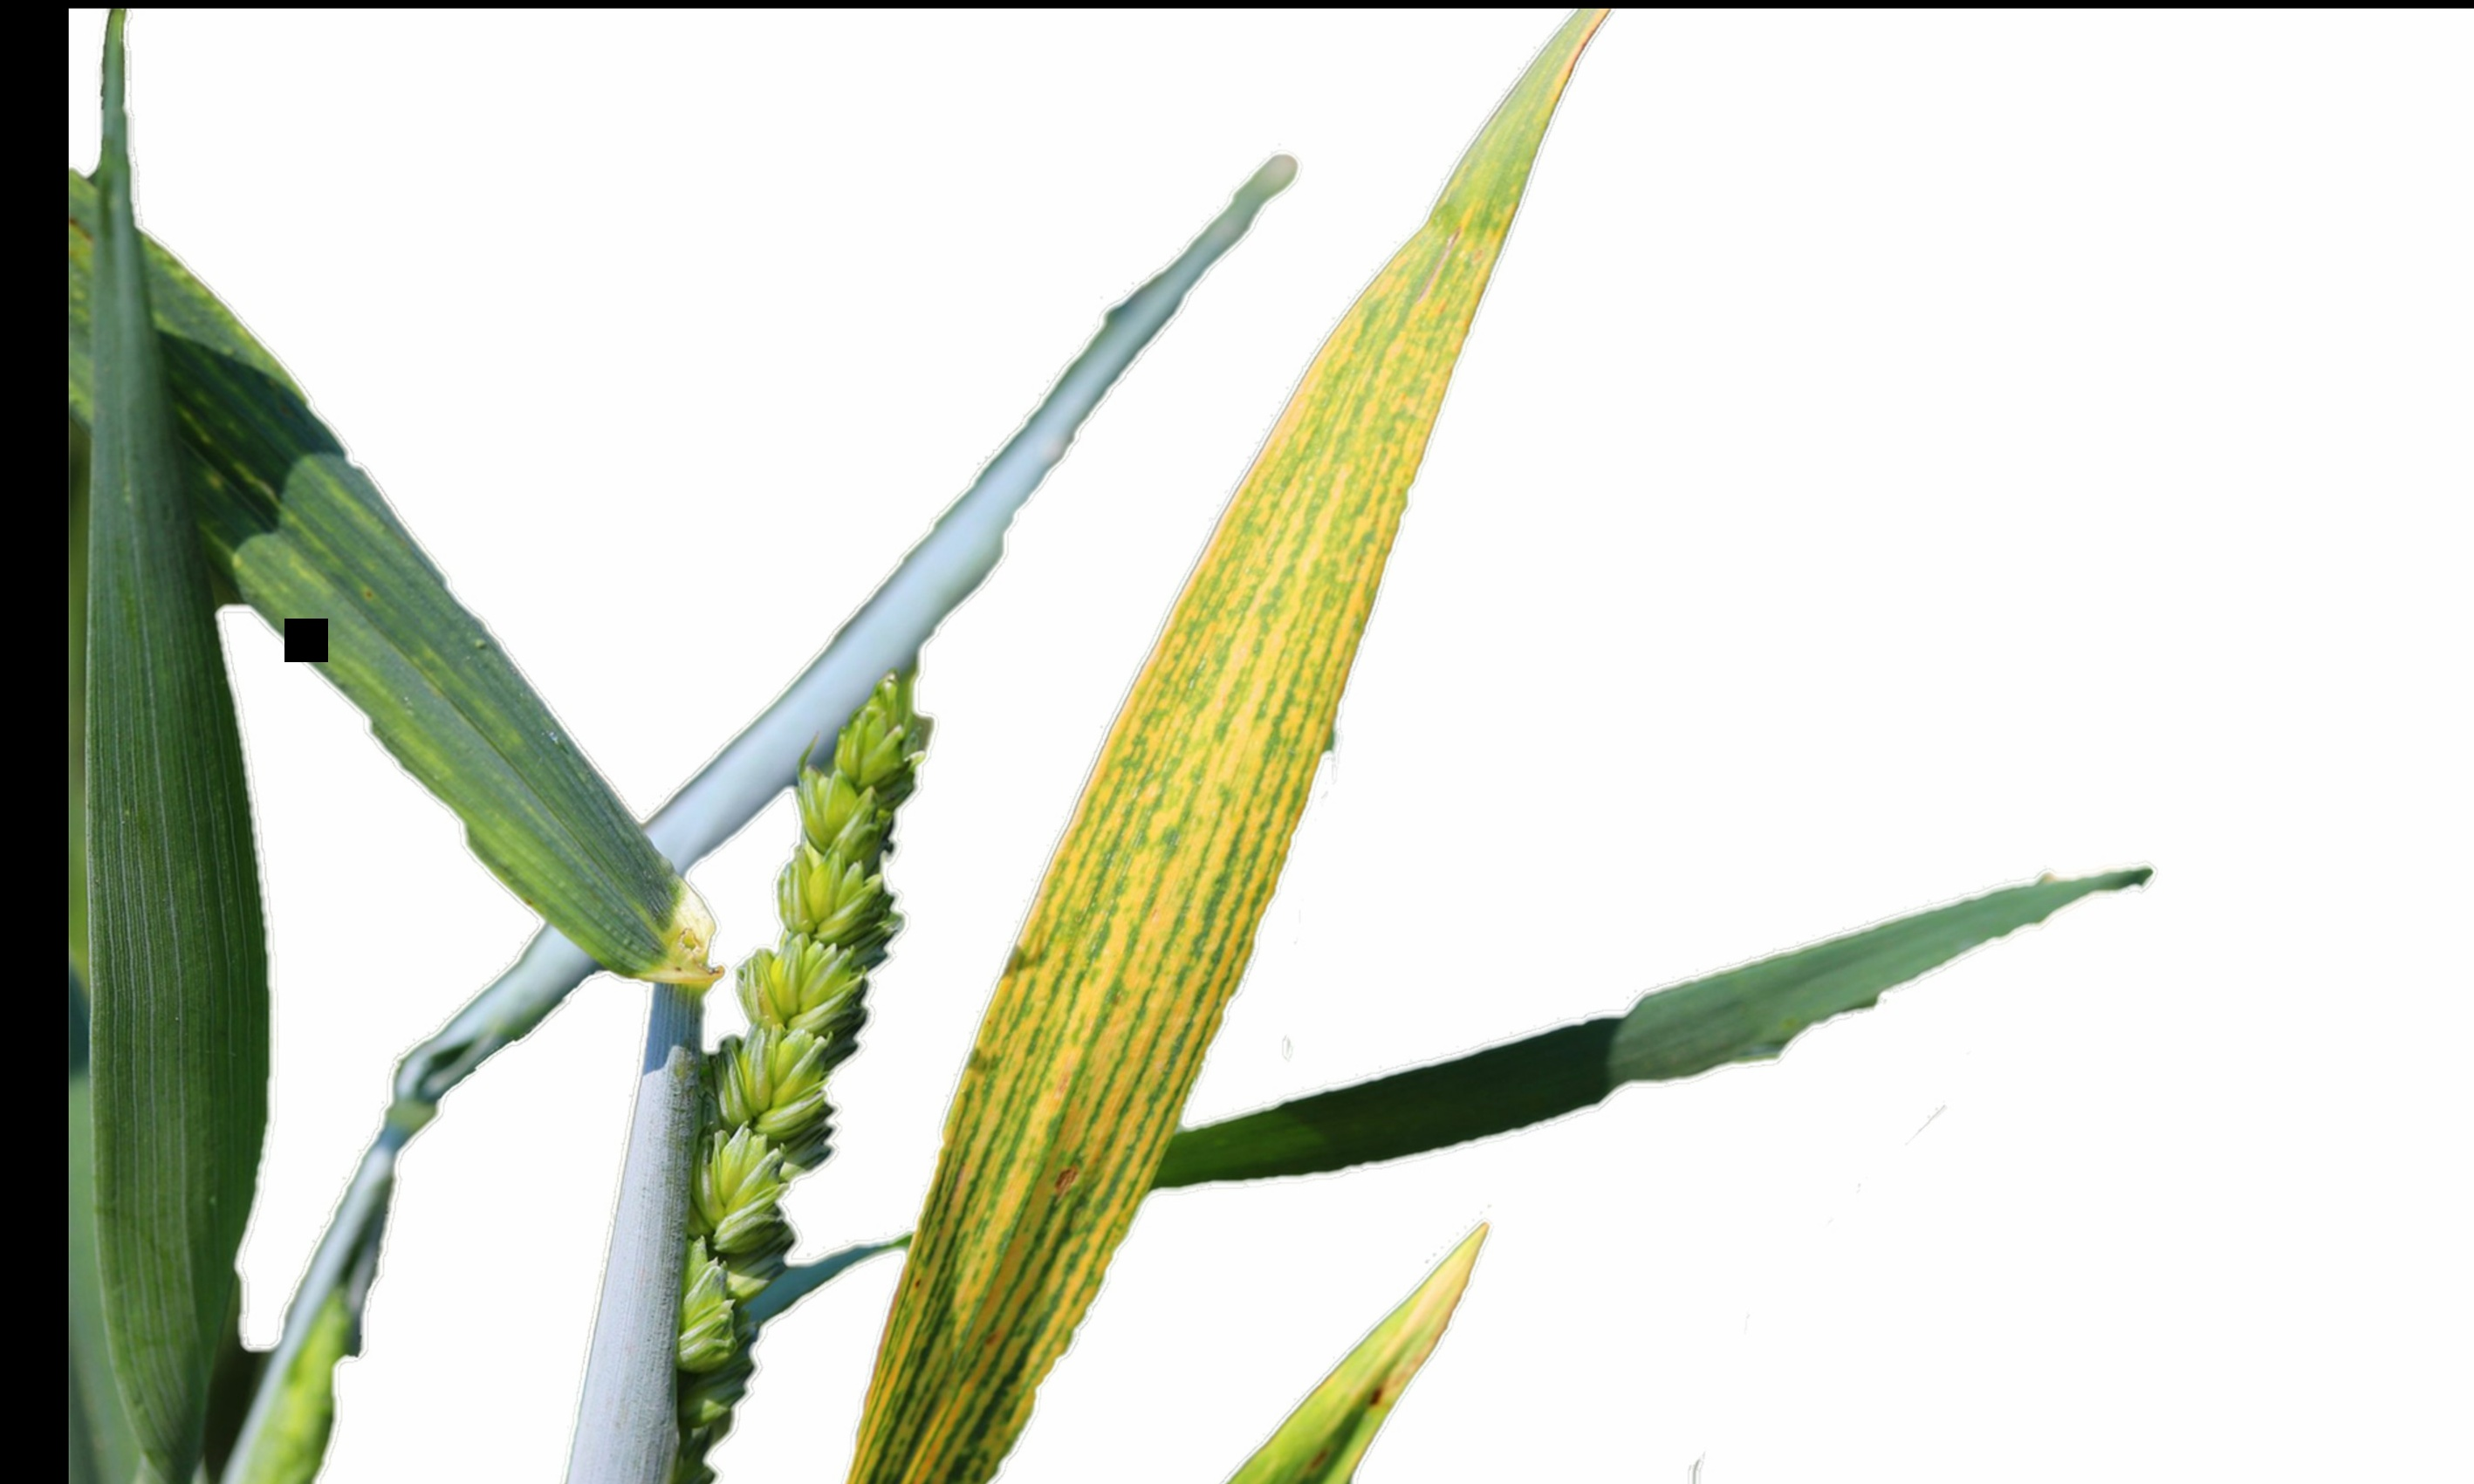wheat: (645, 622, 949, 1461)
